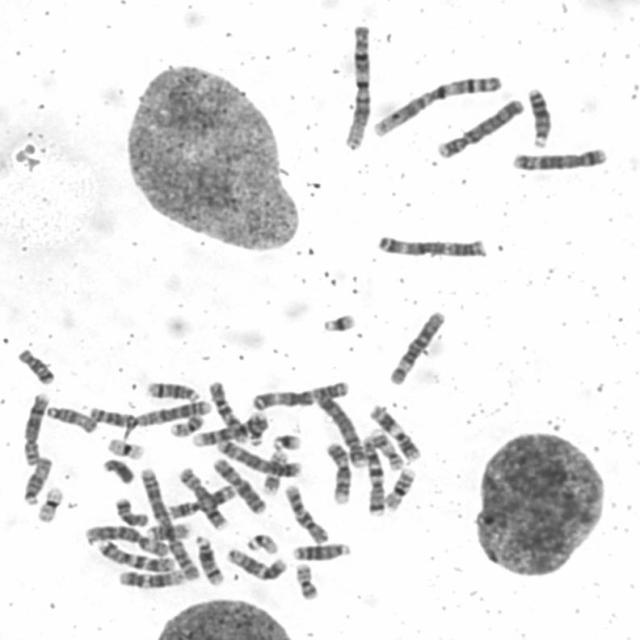A1: (368, 72, 504, 140), (339, 21, 374, 153)
A2: (138, 465, 202, 581), (85, 395, 212, 430)
A3: (373, 230, 488, 261), (249, 377, 349, 410)
B4: (434, 94, 526, 160), (313, 388, 367, 468)
B5: (215, 436, 302, 477), (509, 144, 609, 172)
C10: (281, 482, 330, 545), (206, 378, 248, 444)
C11: (367, 401, 422, 463), (168, 484, 238, 522)
C12: (224, 546, 288, 582), (116, 567, 185, 590)
C6: (385, 307, 447, 387), (81, 520, 170, 558)
C7: (94, 536, 176, 573), (360, 438, 386, 518)
C8: (175, 466, 229, 530), (19, 391, 51, 467)
C9: (188, 409, 270, 448), (323, 440, 354, 506)
D13: (524, 84, 553, 149), (290, 540, 351, 562)
D14: (193, 532, 225, 587), (145, 378, 201, 402)
D15: (20, 454, 54, 506), (44, 403, 98, 434)
E16: (381, 464, 417, 511), (144, 519, 193, 541)
E17: (370, 426, 405, 472), (259, 448, 289, 496)
E18: (15, 346, 56, 386), (112, 494, 150, 528)
F19: (34, 484, 64, 523), (105, 435, 146, 460)
F20: (293, 560, 320, 602), (167, 411, 206, 438)
G21: (319, 311, 357, 333), (269, 432, 303, 452)
G22: (244, 407, 269, 448), (244, 530, 280, 554)
X: (210, 455, 268, 515)
Y: (101, 455, 136, 485)
